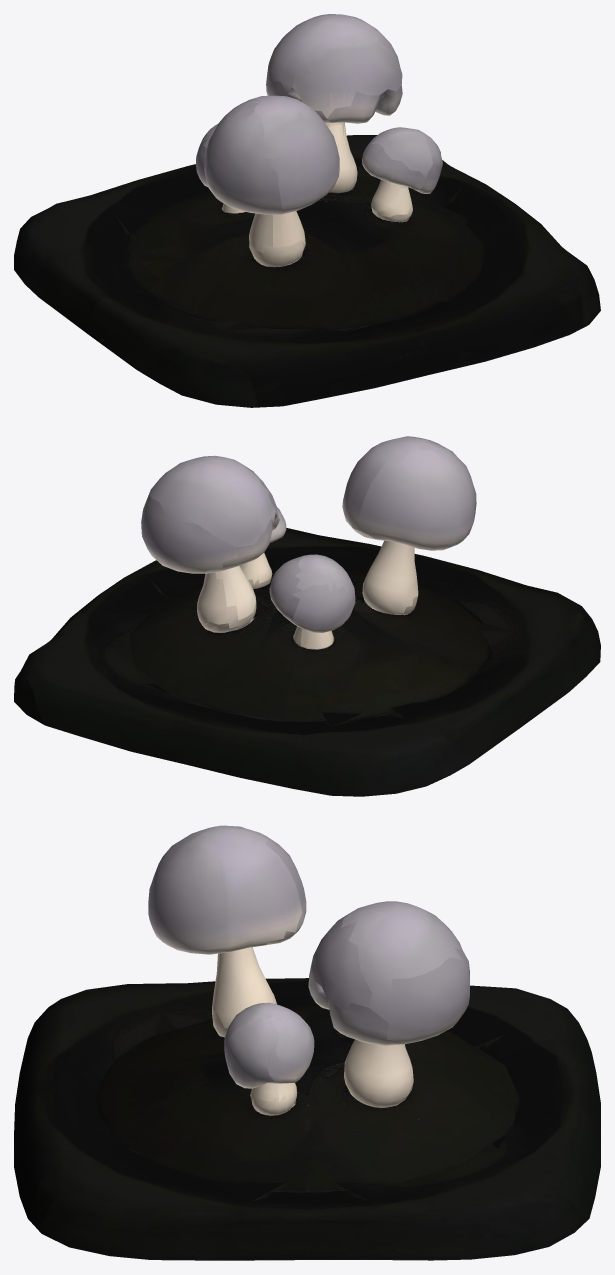
Rendered from mist_mushroom_stage2.glb.
The picture shows the model from 3 angles, top to bottom: view 1: azimuth 30°, elevation 25°; view 2: azimuth 150°, elevation 25°; view 3: azimuth 270°, elevation 25°; orthographic projection. The views are drawn at different scales.
Visible parts, largest first — view 1: mesh_node; view 2: mesh_node; view 3: mesh_node.
Boxes of the visible parts, x1=… form: mesh_node: x1=14, y1=14, x2=600, y2=407; mesh_node: x1=14, y1=436, x2=600, y2=796; mesh_node: x1=14, y1=825, x2=600, y2=1260.
Size of the model in its own units: 1 by 0.4971 by 0.998.
Materials: 1 (1 with a texture image).
